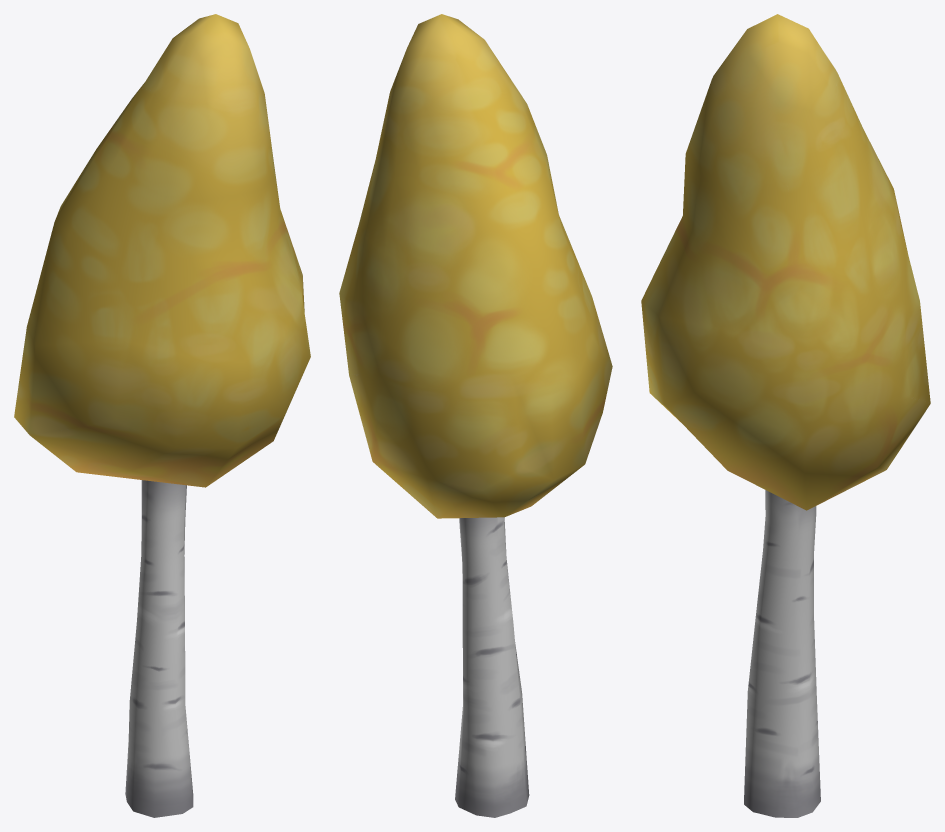
File: Tree_02.fbx
3 renders of one model, left to right at view 1: azimuth 30°, elevation 25°; view 2: azimuth 150°, elevation 25°; view 3: azimuth 270°, elevation 25°, orthographic. The views are drawn at different scales.
Parts seen in each view (by area): view 1: Tree_01.001; view 2: Tree_01.001; view 3: Tree_01.001.
Boxes of the visible parts, bbox=[...] form: Tree_01.001: bbox=[14, 14, 310, 817]; Tree_01.001: bbox=[339, 14, 612, 817]; Tree_01.001: bbox=[641, 14, 930, 817].
Size of the model in its own units: 3.89 by 11.53 by 3.71.
